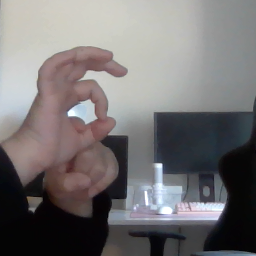Q: (24, 44, 131, 204)
